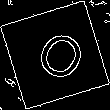O_SW: (24, 22, 86, 88)
